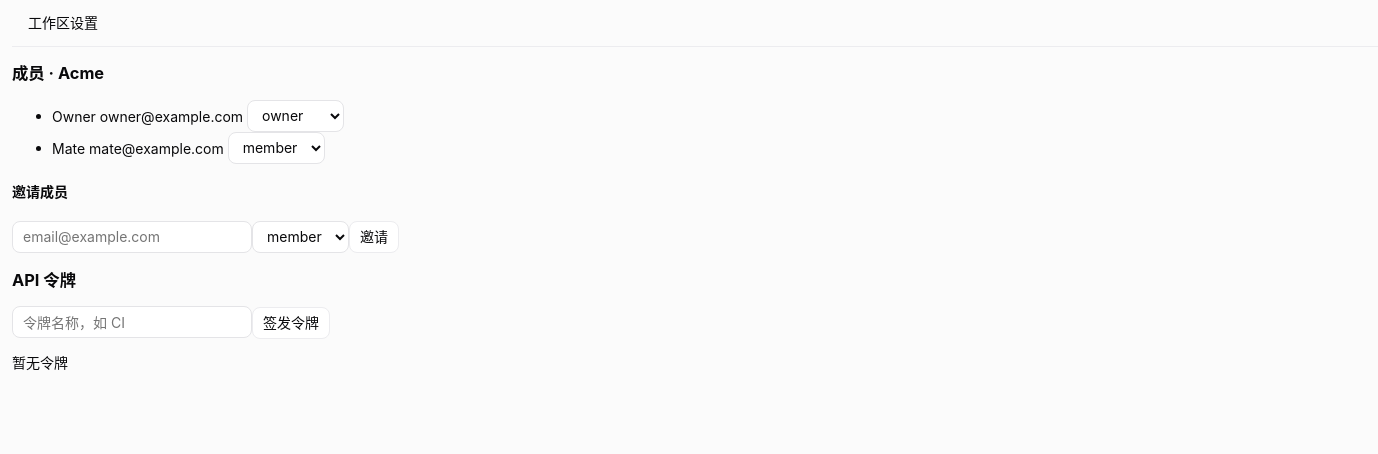
Test case: SettingsPage › issues a token and shows the plaintext only once
Type "ci" into the field with test id "token-name". click: (132,322)
box: [12,306,252,338]
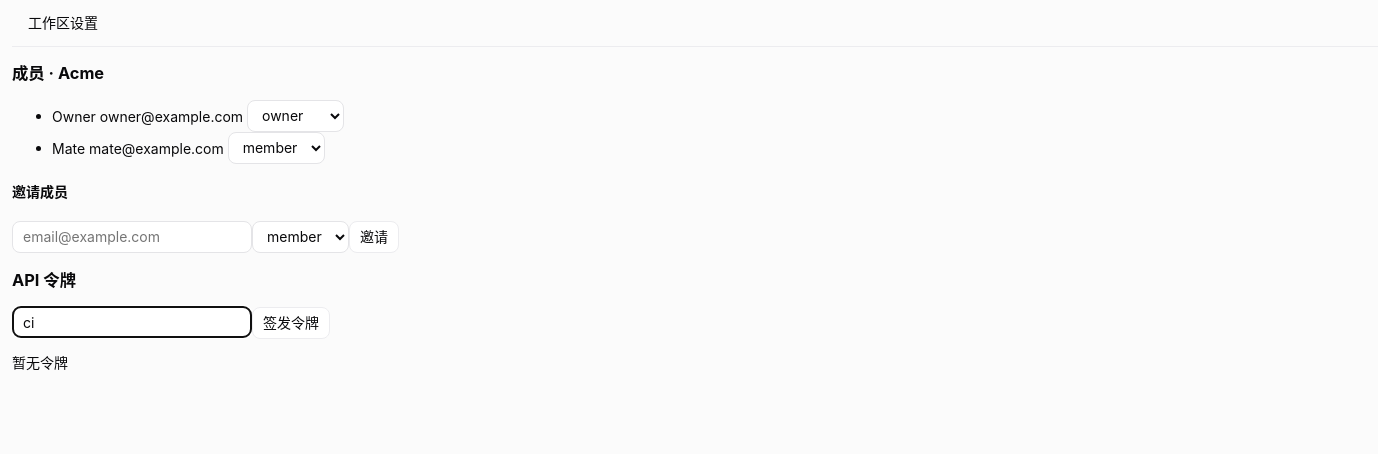
Click the button with test id "token-submit". click: (291,323)
box: [252,307,330,339]
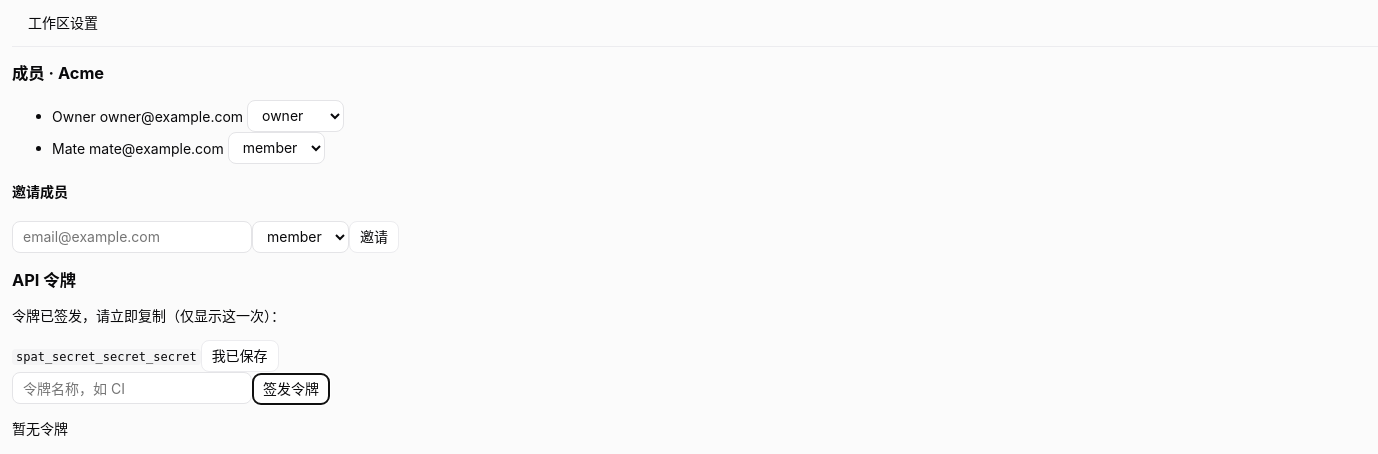
Now the text with test id "issued-token" reads "spat_secret_secret_secret", box [16,350,197,364]
# Dismissing hides the plaintext (it is never shown again).
Click the button with test id "dismiss-issued-token". click: (240,356)
box: [201,340,279,372]
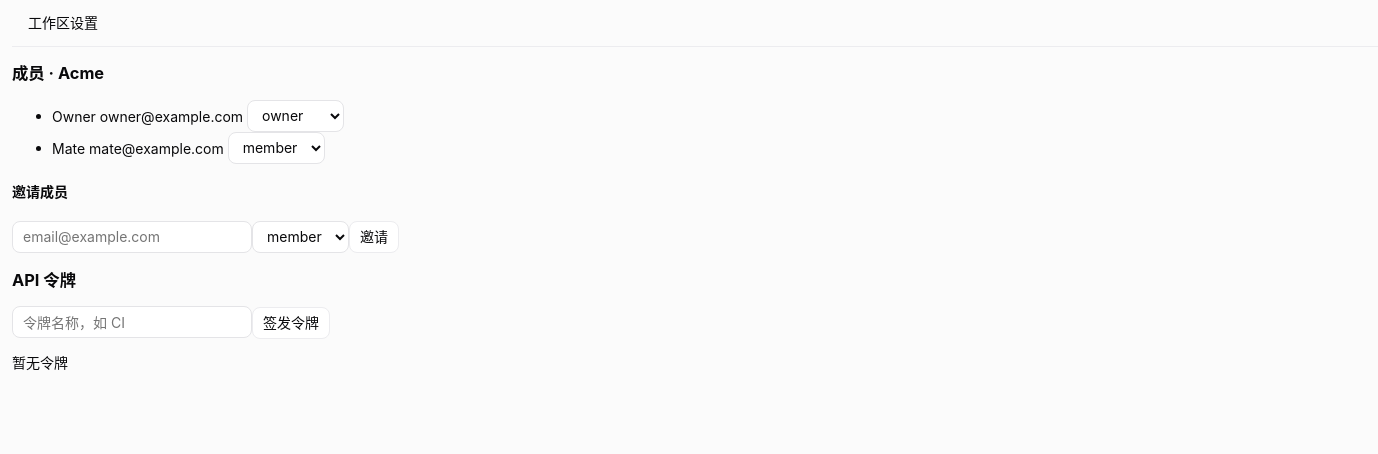
Now the text with test id "issued-token" is gone
